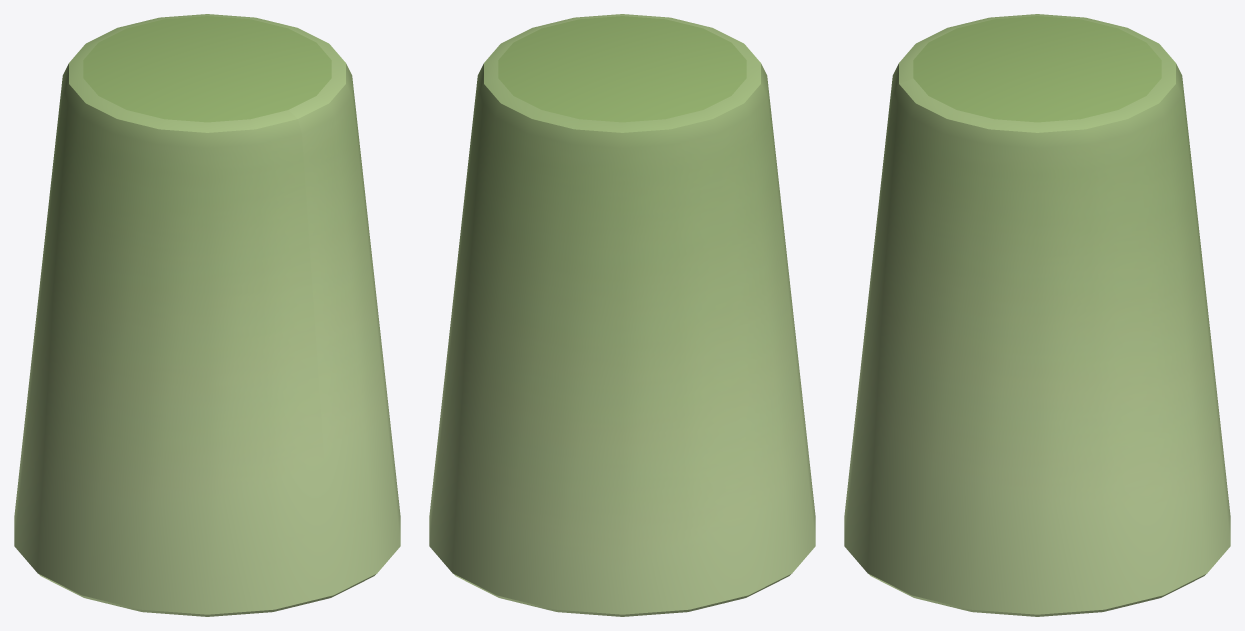
File: Ktchen_Glass.FBX
3 views of the same model, side by side, from view 1: azimuth 30°, elevation 25°; view 2: azimuth 150°, elevation 25°; view 3: azimuth 270°, elevation 25° (orthographic).
Parts seen in each view (by area): view 1: Ktchen_Glass001; view 2: Ktchen_Glass001; view 3: Ktchen_Glass001.
Part boxes in pixels (x1,y1,x2,y2): Ktchen_Glass001: (14, 14, 400, 616); Ktchen_Glass001: (429, 14, 815, 616); Ktchen_Glass001: (844, 14, 1230, 616).
Size of the model in its own units: 3.35 by 4.39 by 3.3.
